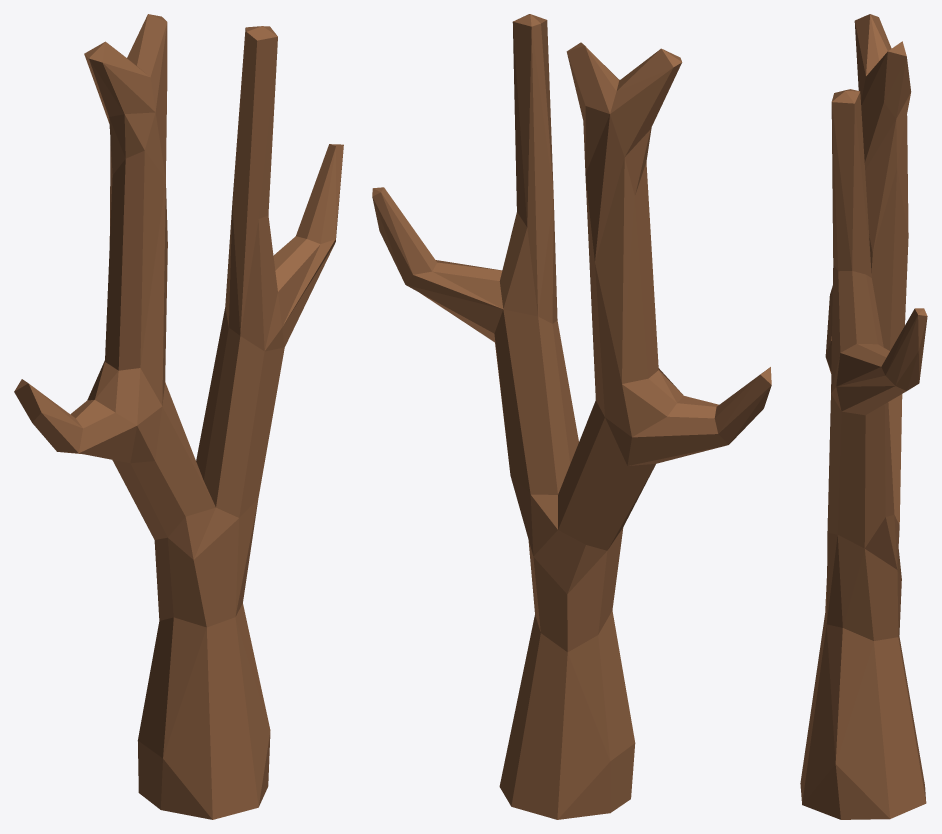
Rendered from tree-dead-trunk-3-041.glb.
3 views of the same model, side by side, from view 1: azimuth 30°, elevation 25°; view 2: azimuth 150°, elevation 25°; view 3: azimuth 270°, elevation 25° (orthographic). The views are drawn at different scales.
Parts seen in each view (by area): view 1: TREE 3.006_512; view 2: TREE 3.006_512; view 3: TREE 3.006_512.
Part boxes in pixels (left/top/right/bottom): TREE 3.006_512: left=14, top=14, right=343, bottom=819; TREE 3.006_512: left=372, top=14, right=771, bottom=819; TREE 3.006_512: left=800, top=14, right=927, bottom=819.
Size of the model in its own units: 0.5247 by 1.06 by 0.1656.
